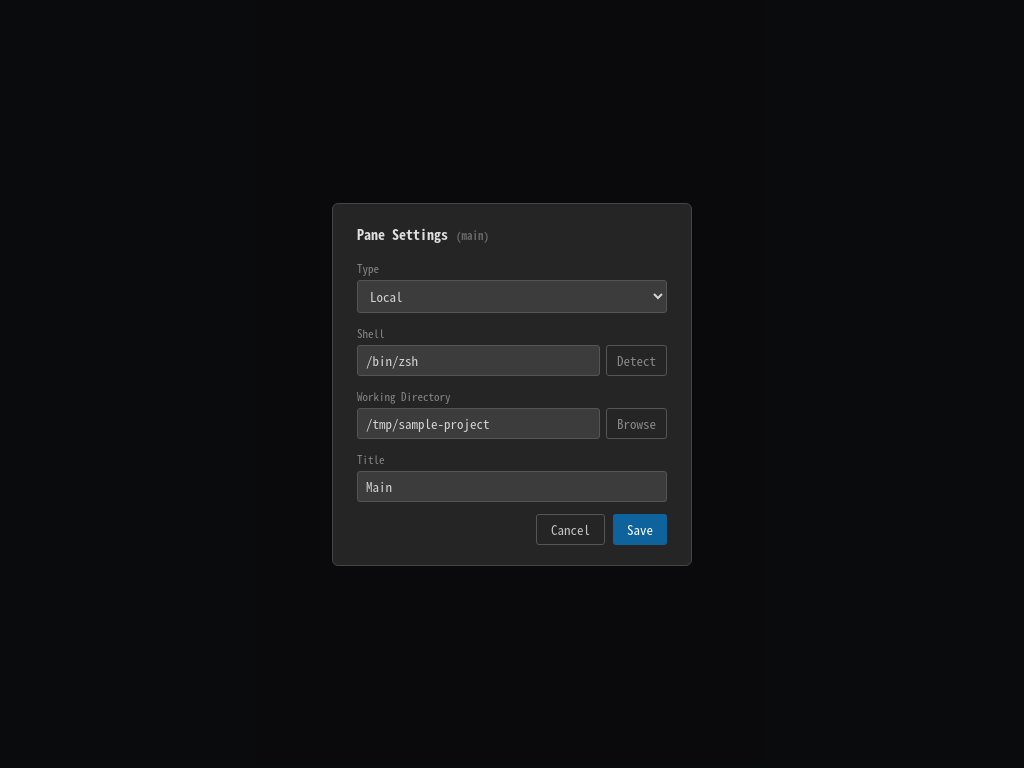
Scenario: PaneSettingsDialog › opens the browser dialog even when the current directory has no child directories
Click the button "Browse".
click(636, 423)  # box [606, 408, 667, 438]
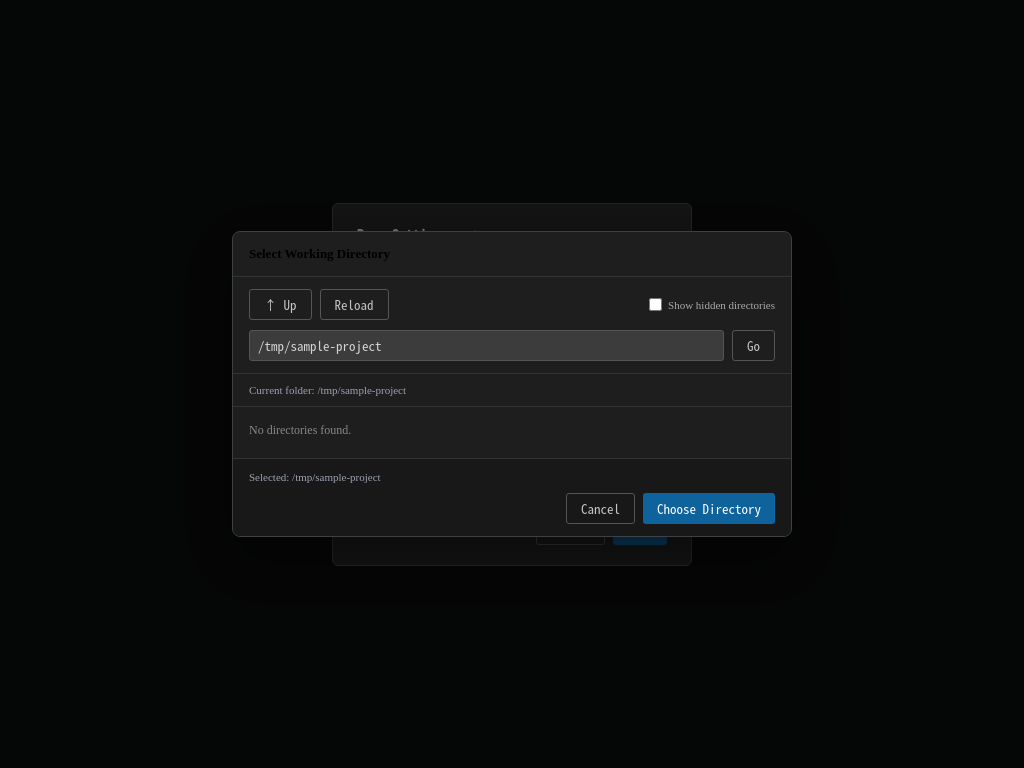
Expected: the dialog named "Directory browser" is shown
Expected: the text "No directories found." is shown, [249, 423, 351, 437]
